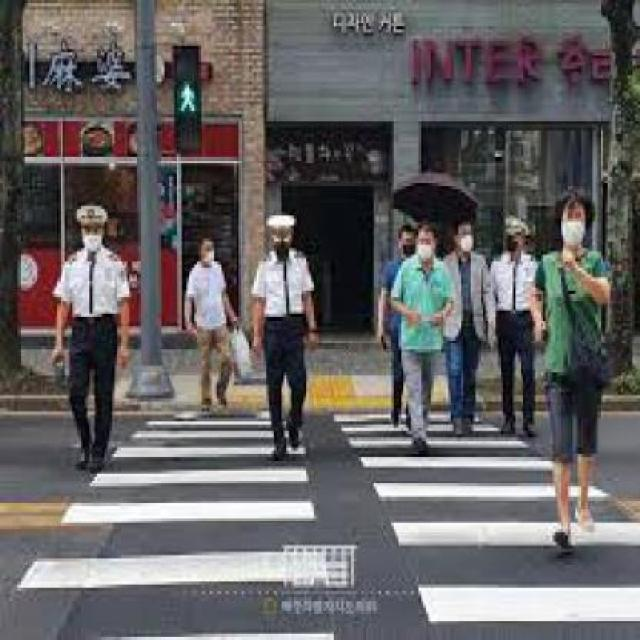Person: (535, 194, 608, 552), (50, 205, 130, 470), (255, 212, 317, 460), (396, 226, 455, 452), (182, 233, 242, 418), (442, 218, 493, 434), (492, 212, 537, 438), (378, 222, 420, 433)
